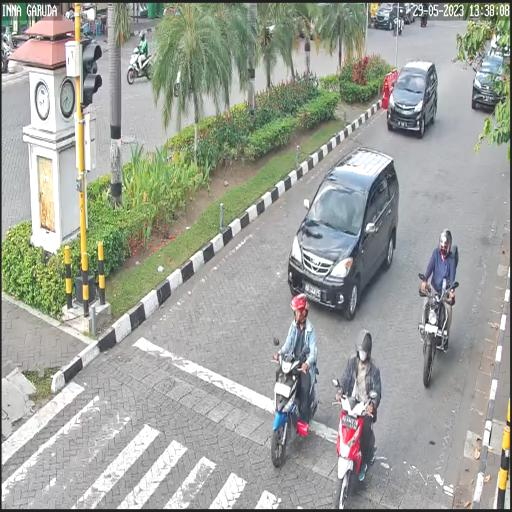mobil: (288, 142, 400, 313), (388, 58, 438, 135), (470, 51, 506, 108)
motor: (330, 376, 378, 508), (272, 338, 316, 466), (418, 274, 460, 389)
